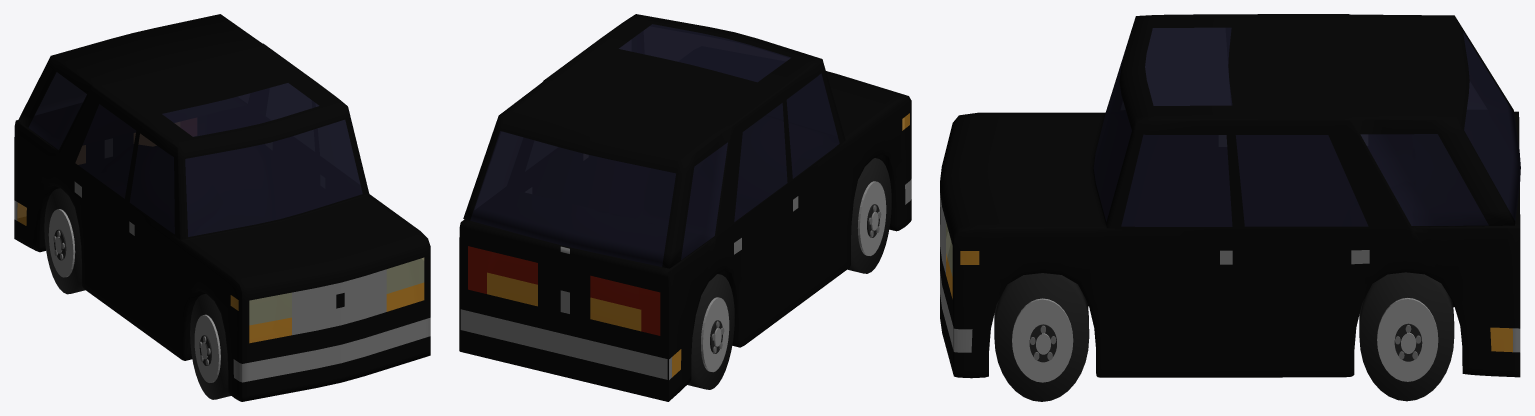
File: car3wagonBlack.fbx
3 renders of one model, left to right at view 1: azimuth 30°, elevation 25°; view 2: azimuth 150°, elevation 25°; view 3: azimuth 270°, elevation 25°, orthographic. The views are drawn at different scales.
Visible parts, largest first — view 1: Car2, LugNut.001, LugNut.002; view 2: Car2, LugNut.002, LugNut.001; view 3: Car2, LugNut.004, LugNut.003.
Part boxes in pixels (x1,y1,x2,y2): Car2: (14,14,430,401); LugNut.001: (190,294,231,399); LugNut.002: (44,188,85,294); Car2: (459,14,911,401); LugNut.002: (687,274,734,389); LugNut.001: (847,158,891,273); Car2: (940,14,1520,378); LugNut.004: (994,273,1089,401); LugNut.003: (1359,272,1454,401).
Bounding box in the file's own units: 187 × 204 × 385.
